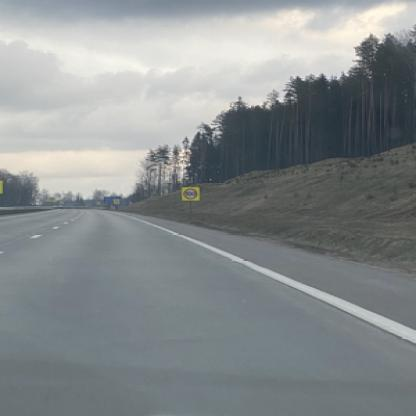speedlimit: (180, 188, 197, 198)
